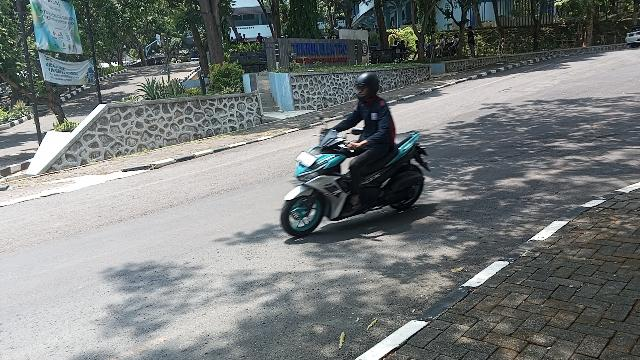helm: (355, 73, 380, 100)
motor: (284, 133, 431, 238)
